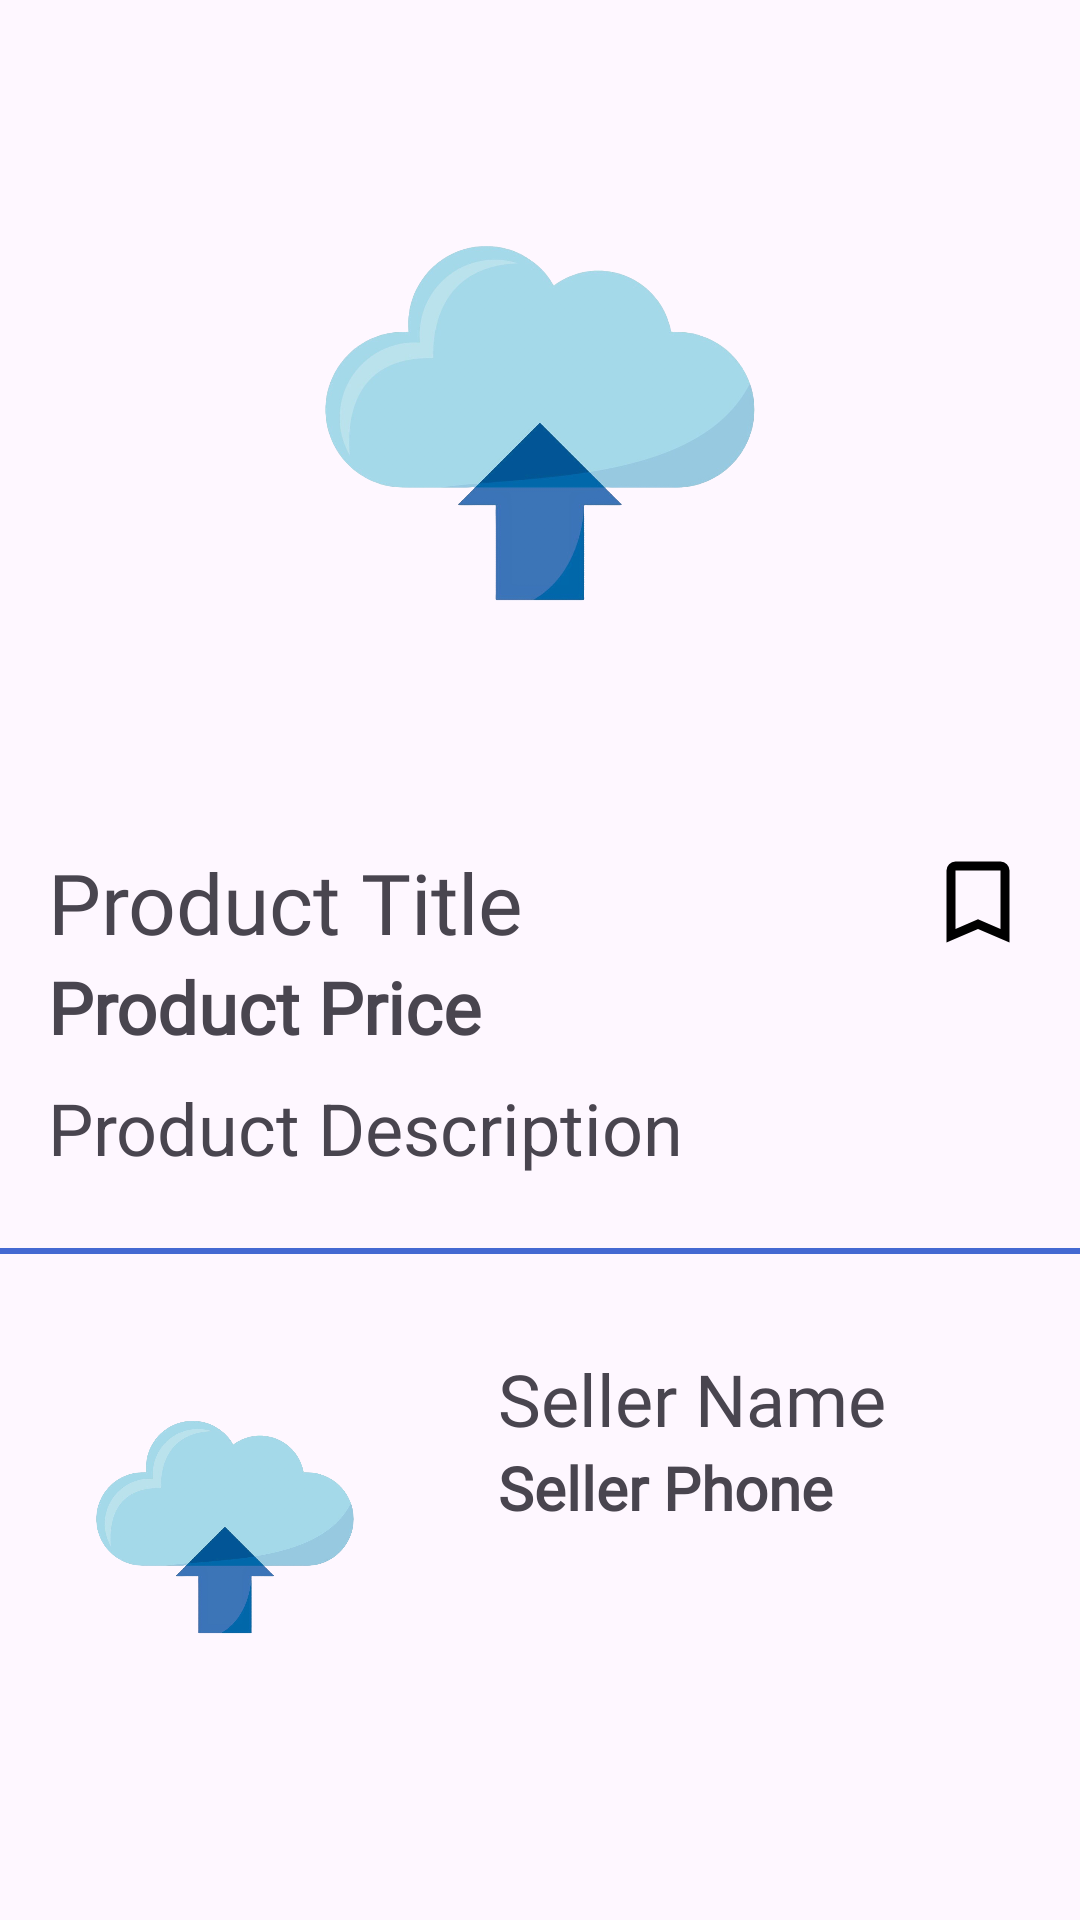

Screen size 1080w x 1920h. Icon name, then its box in pixels as (left=x1, top=y1, right=x2, bottom=y2):
bookmark: (left=946, top=861, right=1010, bottom=943)
